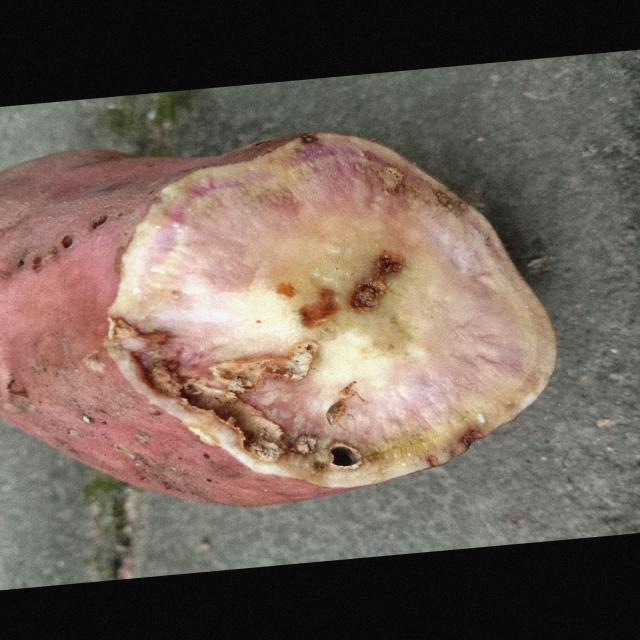Sick Sweet Potato_Tuber Rot: (107, 132, 557, 486)
